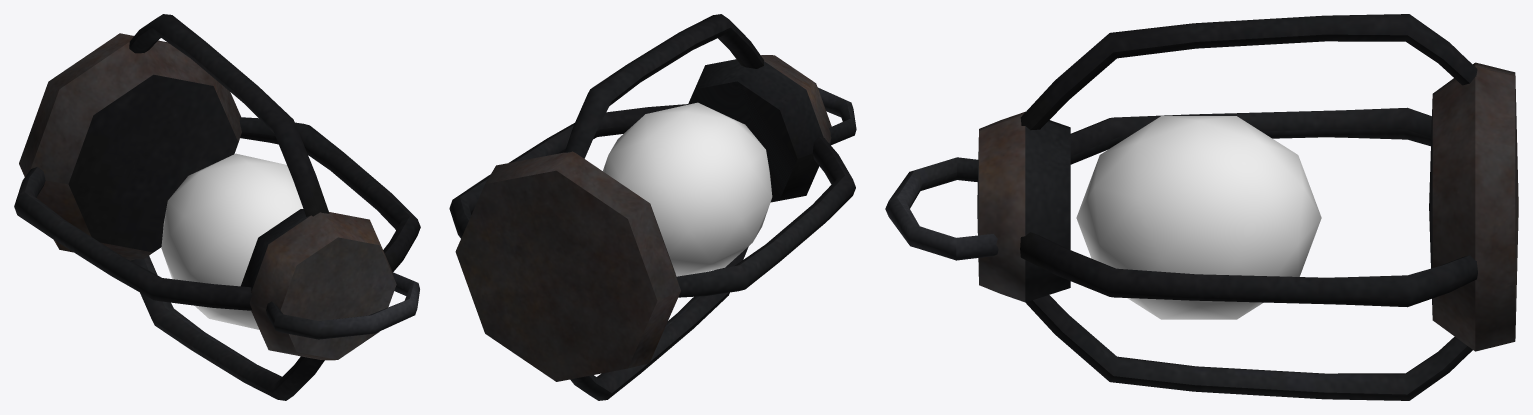
The model's file is Lamp.fbx.
3 renders of one model, left to right at view 1: azimuth 30°, elevation 25°; view 2: azimuth 150°, elevation 25°; view 3: azimuth 270°, elevation 25°, orthographic. The views are drawn at different scales.
Visible parts, largest first — view 1: Lamp, Icosphere; view 2: Lamp, Icosphere; view 3: Lamp, Icosphere.
Part boxes in pixels (x1=…): Lamp: x1=14, y1=14, x2=420, y2=400; Icosphere: x1=161, y1=153, x2=303, y2=329; Lamp: x1=449, y1=14, x2=856, y2=400; Icosphere: x1=603, y1=102, x2=772, y2=276; Lamp: x1=885, y1=14, x2=1518, y2=400; Icosphere: x1=1076, y1=116, x2=1321, y2=319.
Size of the model in its own units: 15.56 by 15.56 by 23.29.
1 material, 1 textured.
